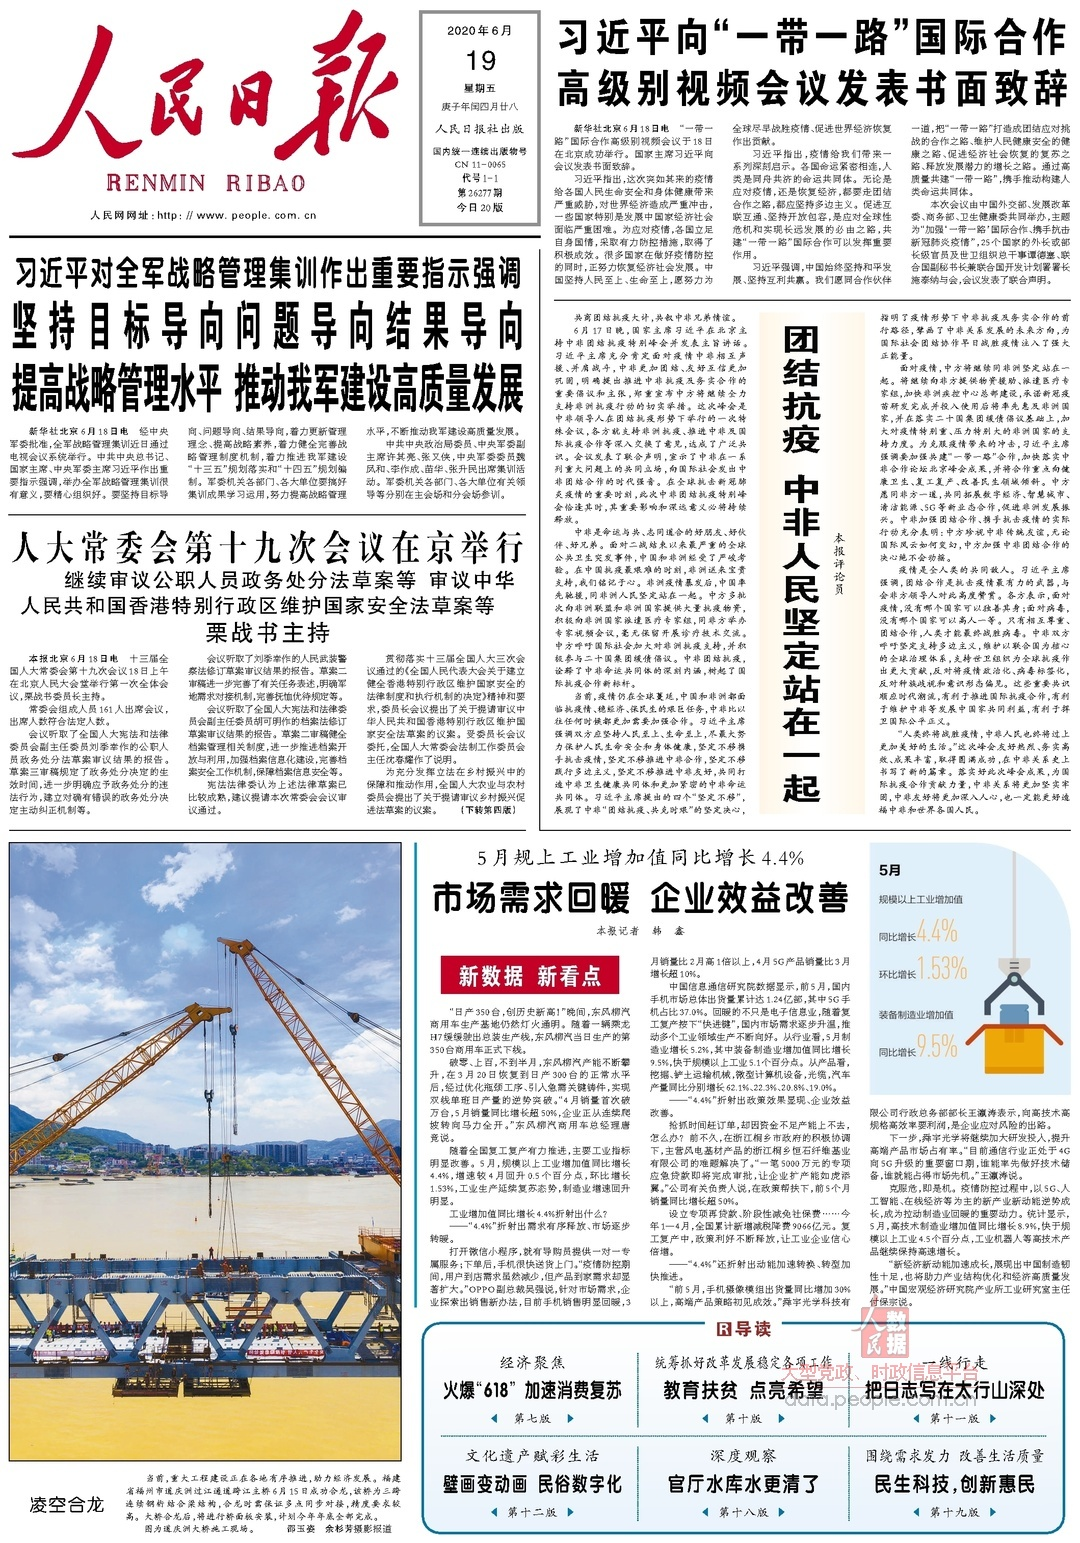pic: (5, 838, 405, 1464)
